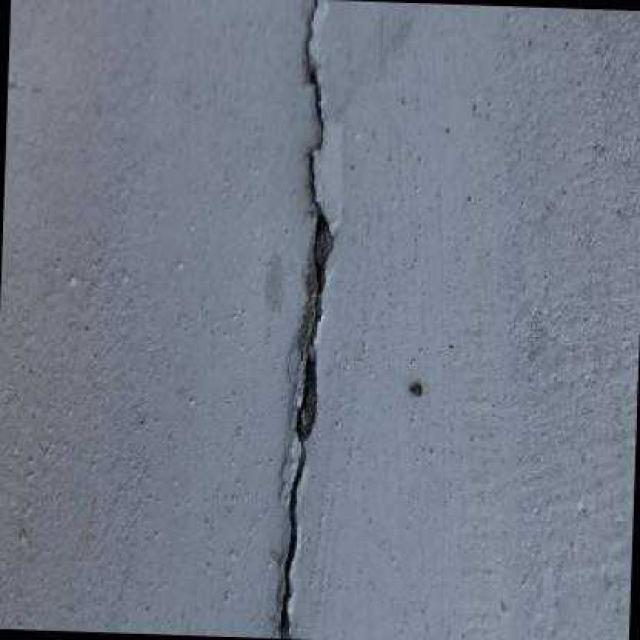D00: (279, 0, 325, 639)
